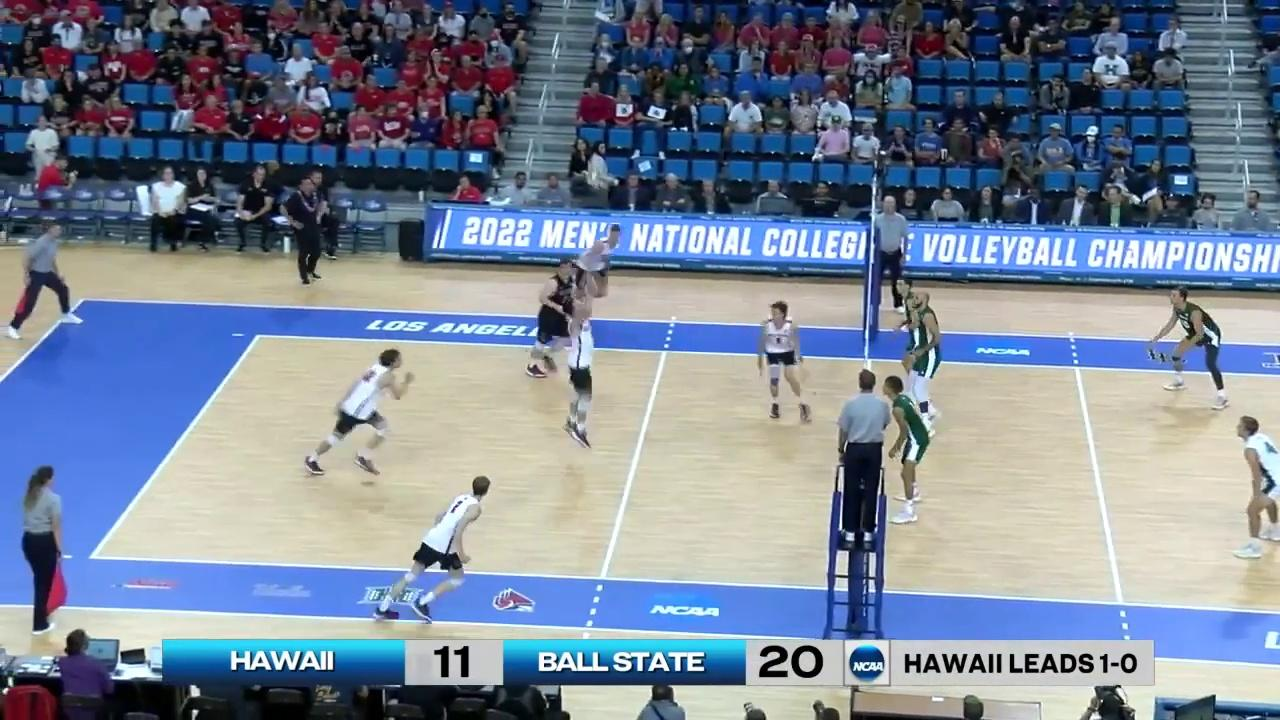player: (367, 477, 489, 623), (306, 349, 407, 479), (1150, 287, 1225, 408), (557, 224, 620, 338), (757, 302, 812, 424), (886, 375, 935, 511), (561, 292, 597, 451), (1239, 417, 1280, 556), (529, 265, 579, 377), (896, 276, 939, 404), (907, 292, 942, 431)
refree: (836, 371, 886, 544), (9, 220, 80, 335), (17, 466, 66, 631), (870, 196, 908, 315)
